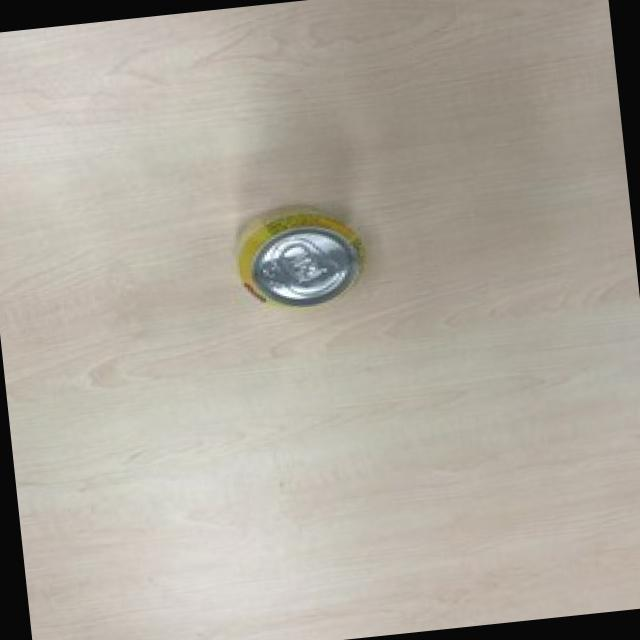can: (225, 190, 372, 322)
